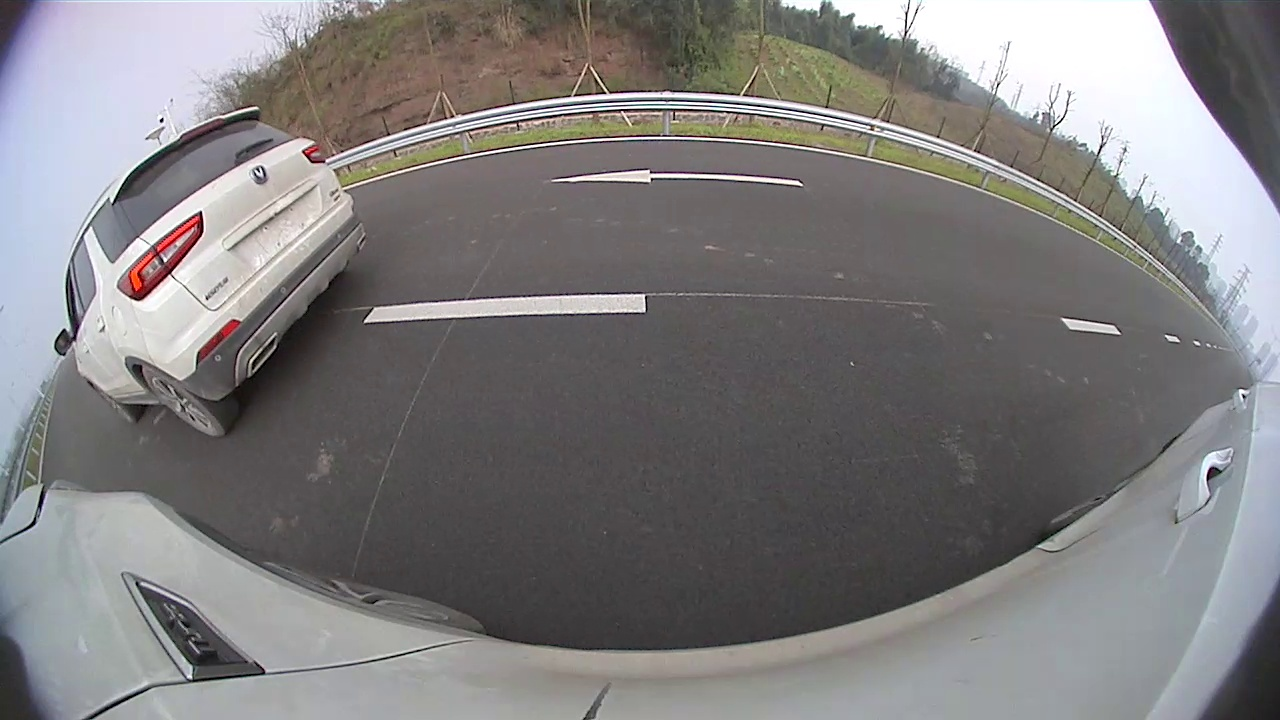car: (150, 88, 547, 351)
front: (518, 177, 548, 238)
rear: (333, 217, 421, 337)
